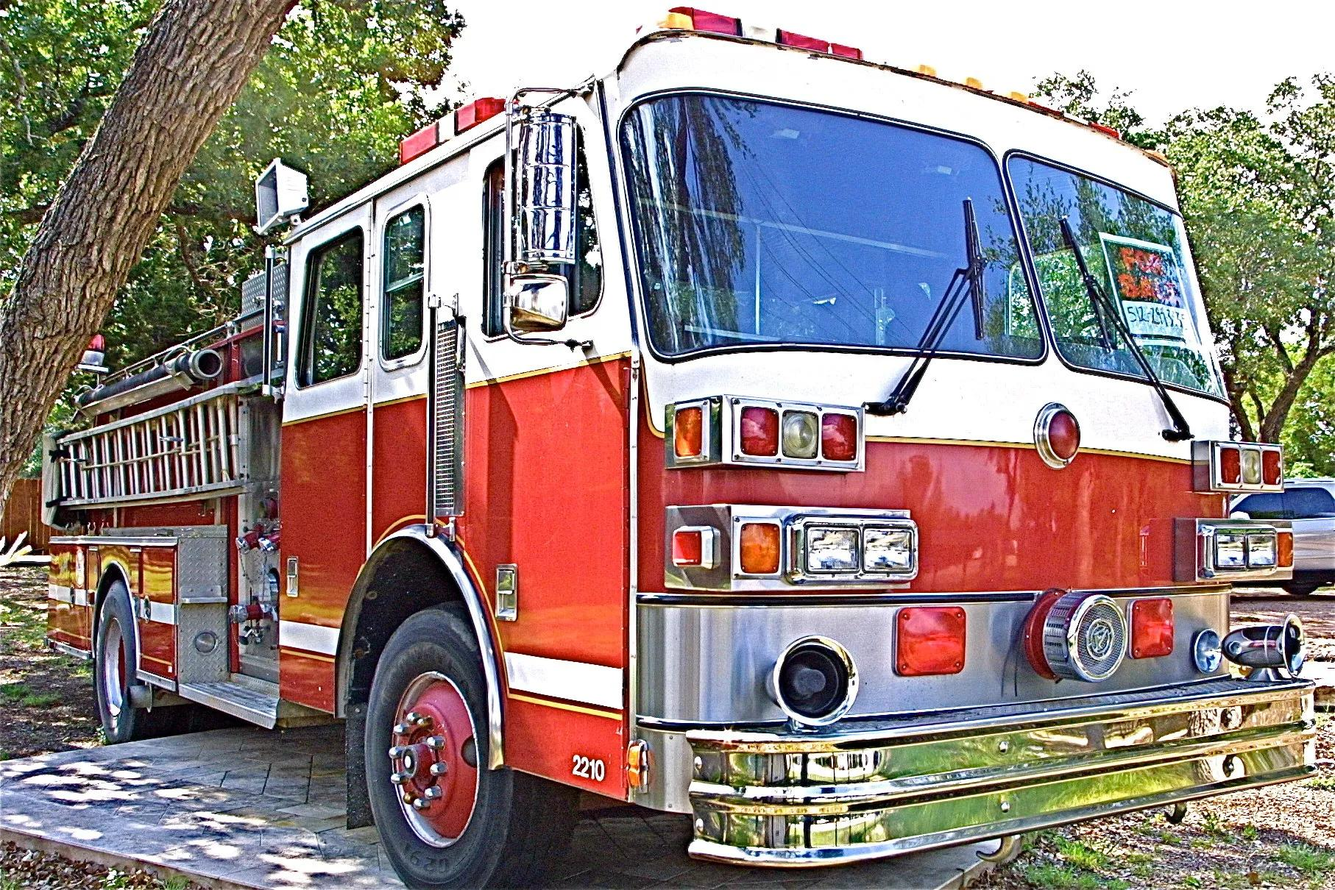Fire-engine: (38, 6, 1321, 888)
